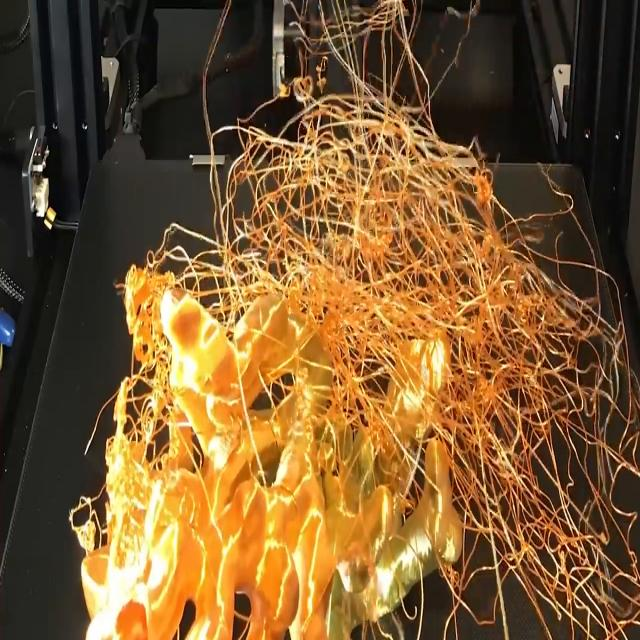spaghetti: (61, 2, 640, 636)
